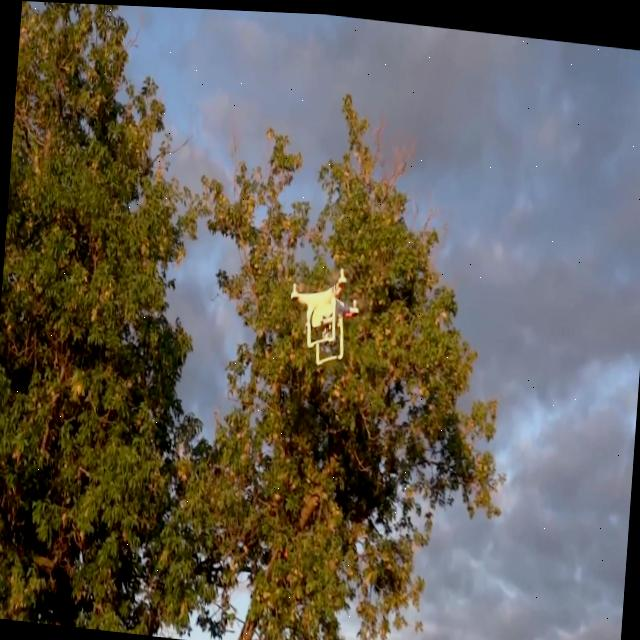drone: (282, 253, 365, 369)
